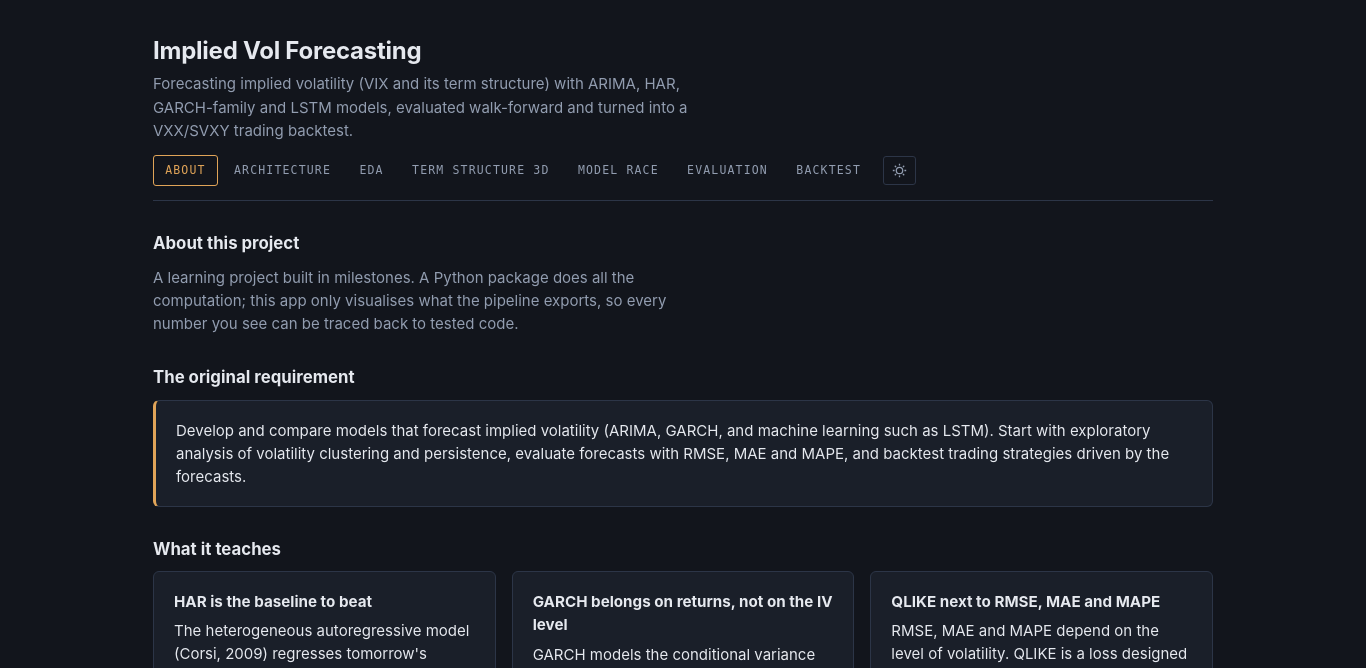
App (integration) › navigates to the 3D page and, without WebGL, falls back to the labelled 2D view
Click the link "Term structure 3D".
click(481, 170)  # box x1=412 y1=162 x2=550 y2=176
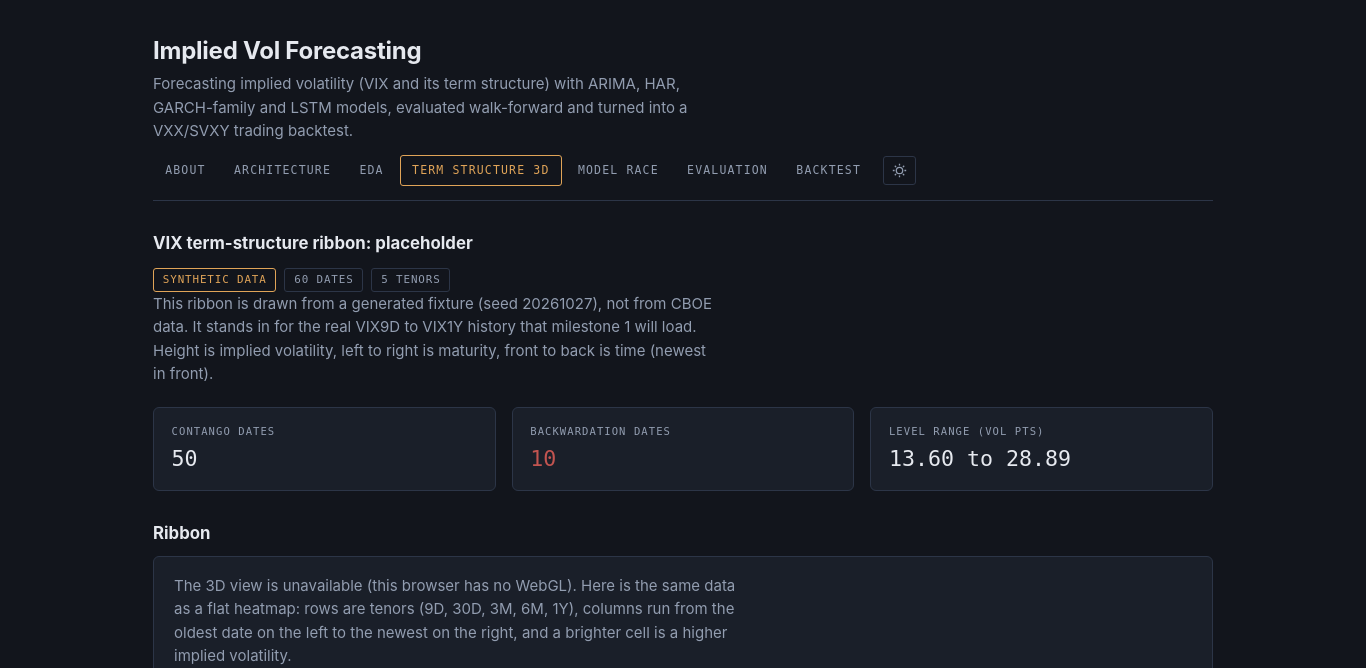
Expected: the text "synthetic data" is shown, x1=153 y1=268 x2=276 y2=292
Expected: the message shows "no WebGL", x1=372 y1=576 x2=567 y2=595
